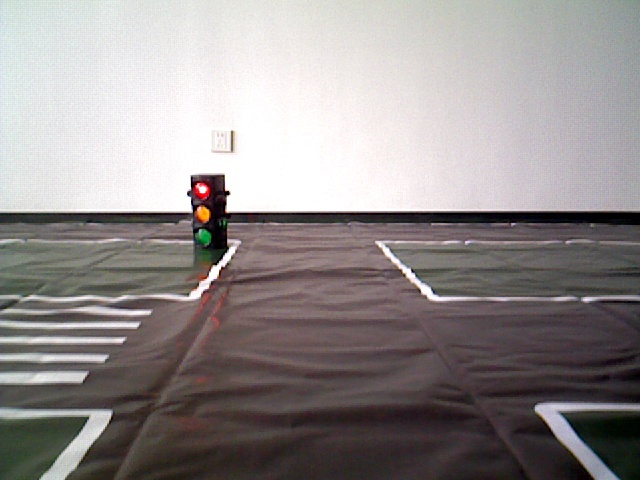red: (194, 174, 225, 251)
